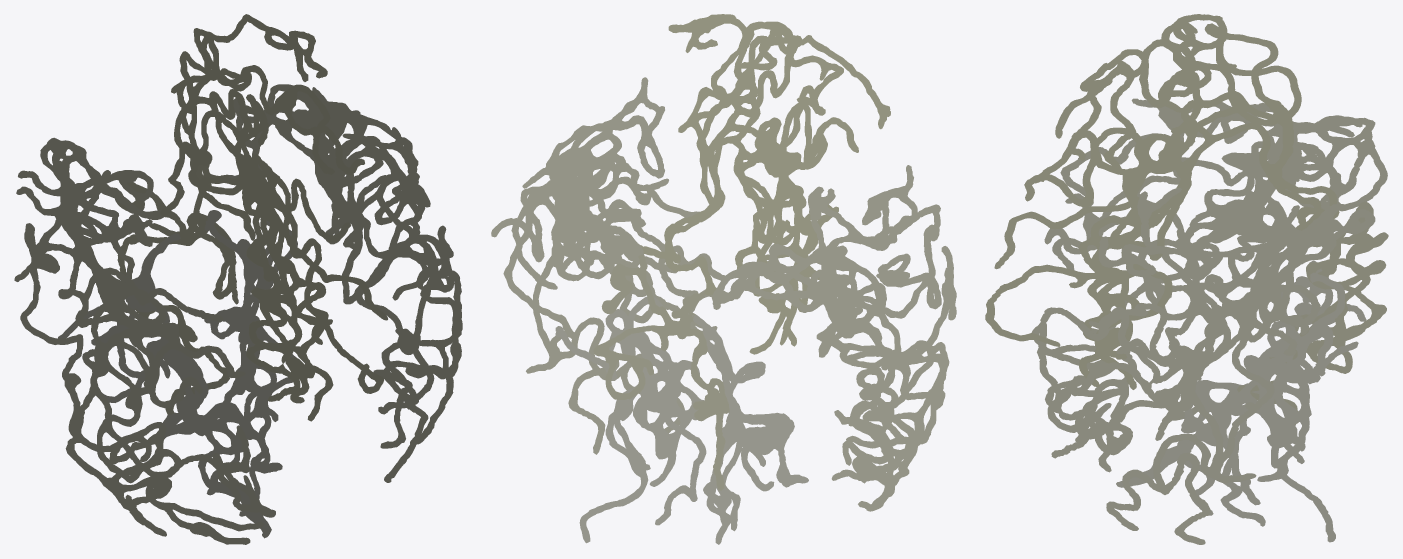
The model's file is arterial-bravissima.glb.
The picture shows the model from 3 angles, left to right: view 1: azimuth 30°, elevation 25°; view 2: azimuth 150°, elevation 25°; view 3: azimuth 270°, elevation 25°; orthographic projection. The views are drawn at different scales.
Visible parts, largest first — view 1: arterial-bravissima; view 2: arterial-bravissima; view 3: arterial-bravissima.
Part boxes in pixels (<box>): arterial-bravissima: <box>14,14,462,544</box>; arterial-bravissima: <box>491,14,956,544</box>; arterial-bravissima: <box>985,14,1388,544</box>.
Bounding box in the file's own units: 134 × 166 × 123.
